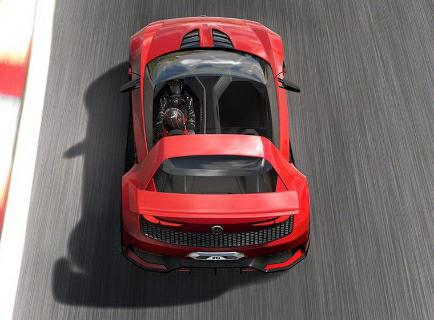大众-夏朗: (109, 10, 318, 278)
